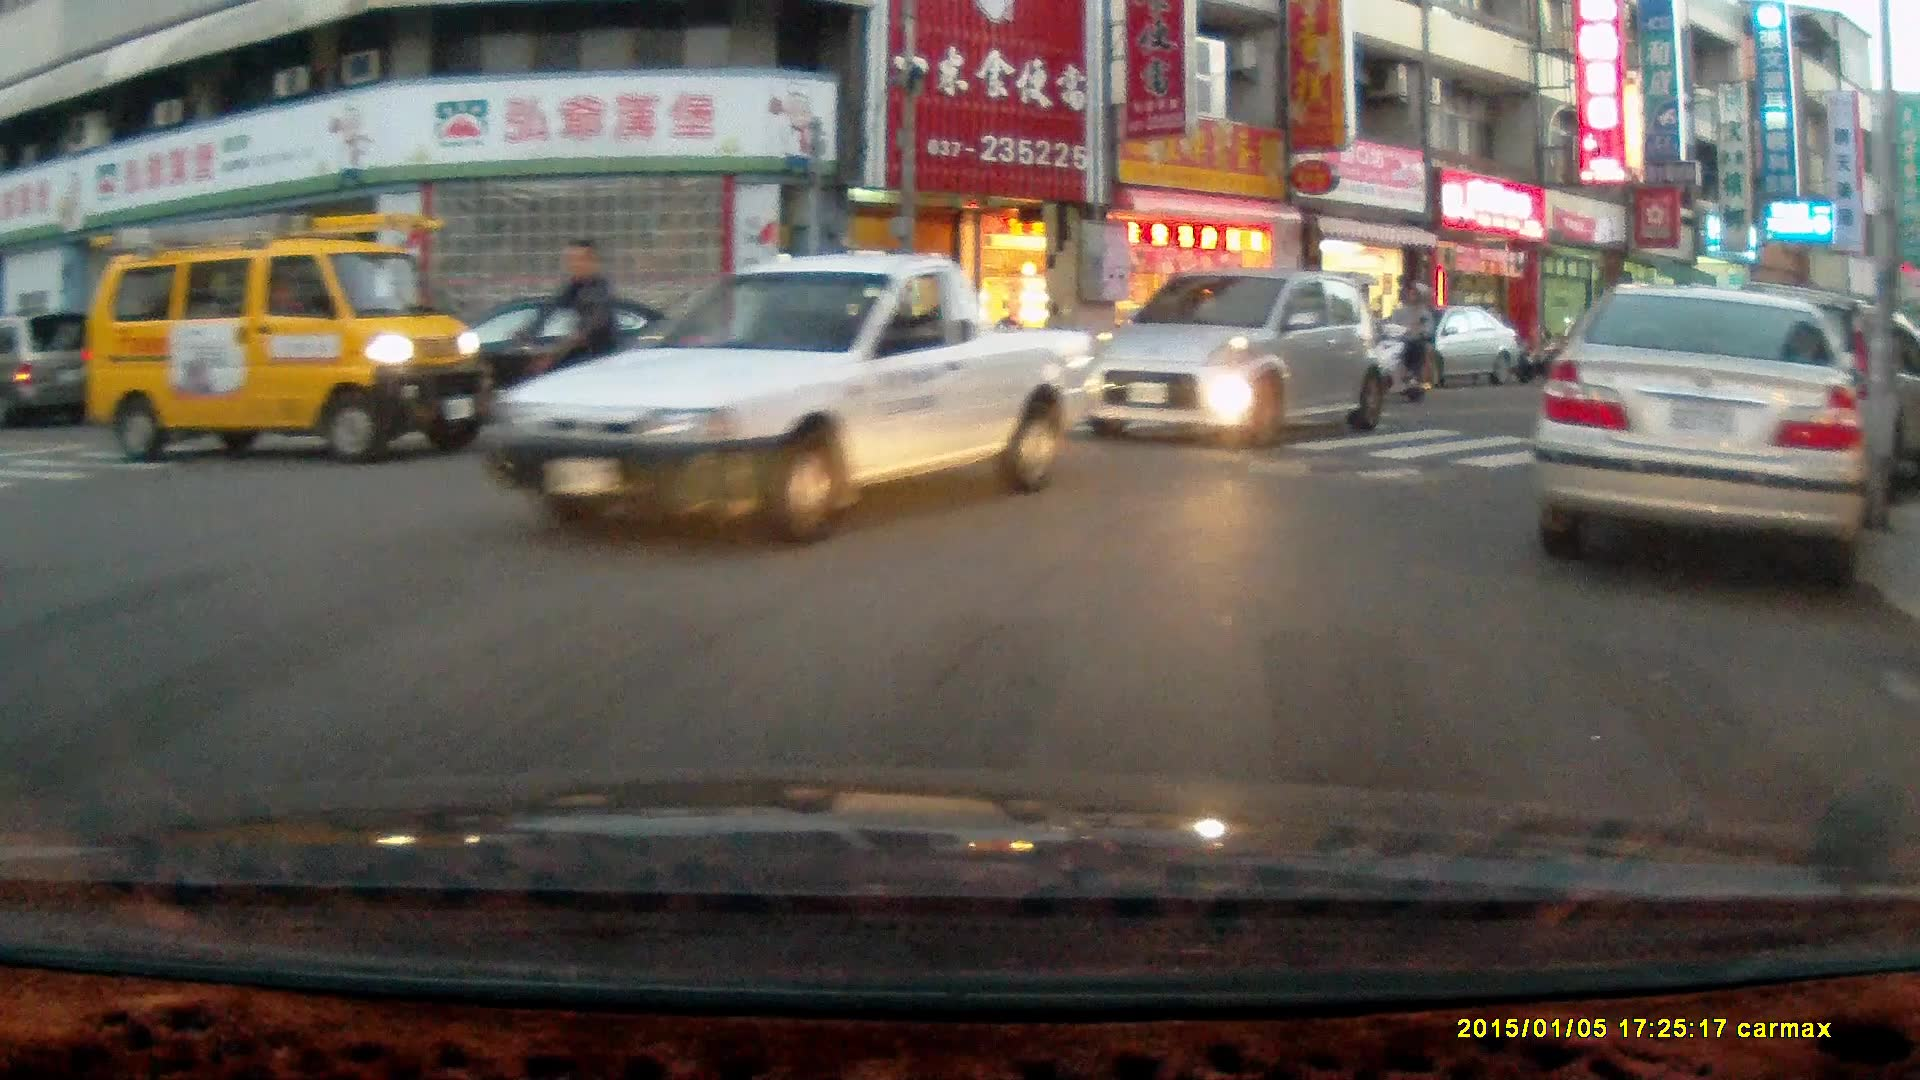rider: (476, 237, 661, 477), (1371, 275, 1437, 404)
vehicle: (480, 246, 1096, 548), (1531, 280, 1872, 601), (76, 209, 485, 466), (1077, 267, 1388, 447), (1666, 291, 1920, 506), (409, 289, 718, 418), (1, 306, 125, 432), (1384, 304, 1519, 384)
